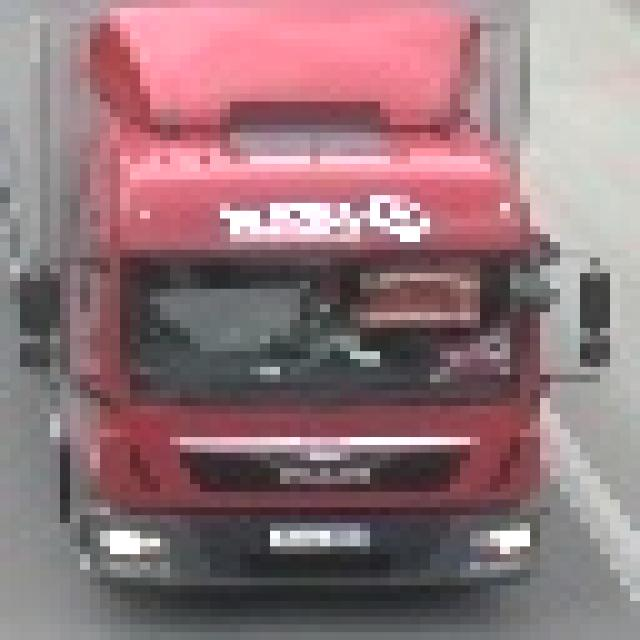truck: (1, 1, 611, 586)
